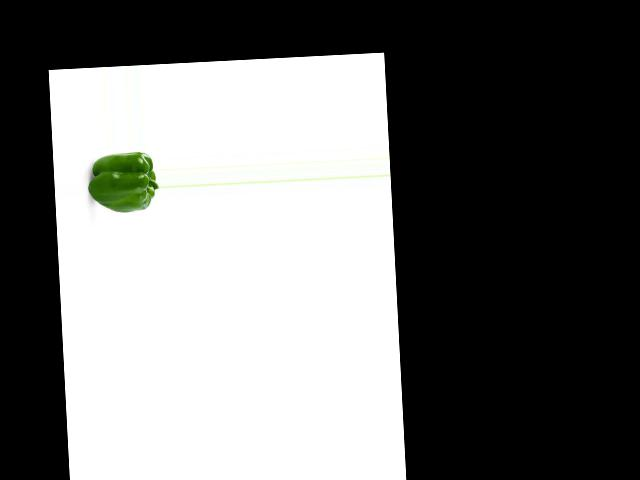bell_pepper: (88, 149, 158, 215)
